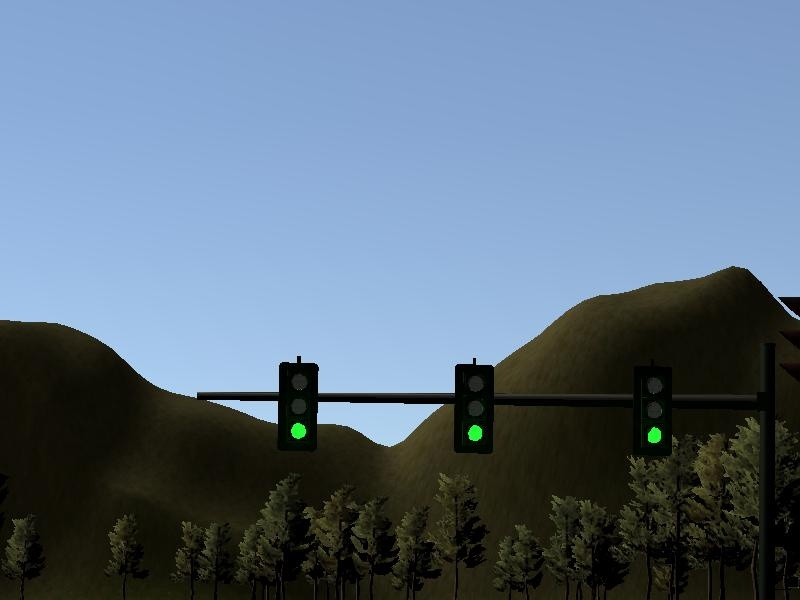GREEN: (278, 361, 319, 449), (454, 364, 495, 452), (636, 371, 672, 456)
